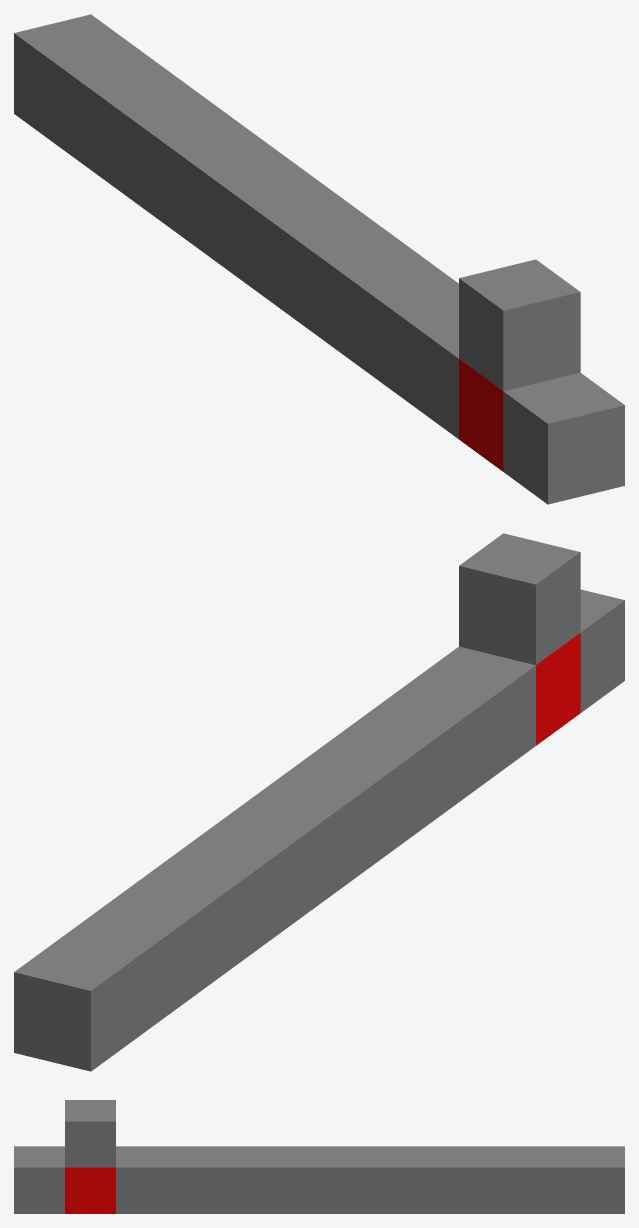
File: Extra-3-Warship_Canon4.obj
The picture shows the model from 3 angles, top to bottom: view 1: azimuth 30°, elevation 25°; view 2: azimuth 150°, elevation 25°; view 3: azimuth 270°, elevation 25°; orthographic projection. The views are drawn at different scales.
Parts seen in each view (by area): view 1: Warship_Canon4; view 2: Warship_Canon4; view 3: Warship_Canon4.
Boxes of the visible parts, <box> form: Warship_Canon4: <box>14,14,624,504</box>; Warship_Canon4: <box>14,533,624,1071</box>; Warship_Canon4: <box>14,1100,624,1213</box>.
Bounding box in the file's own units: 0.1 × 0.2 × 1.2.
1 material, 1 textured.
